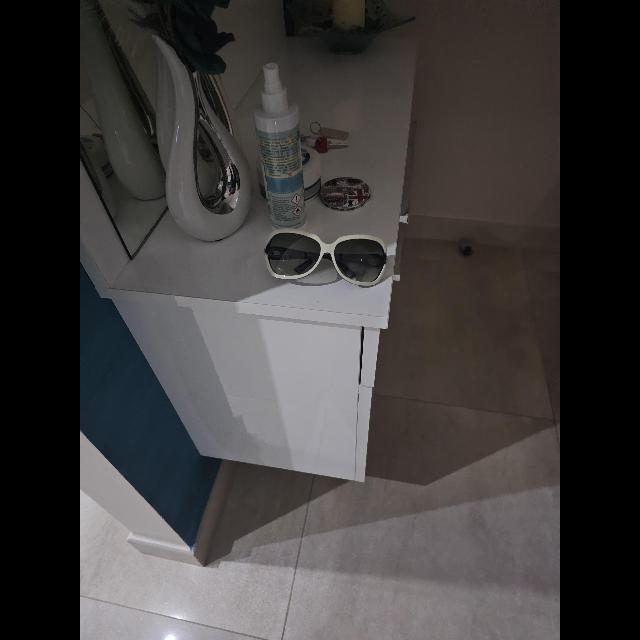Sunglasses: (265, 230, 387, 286)
